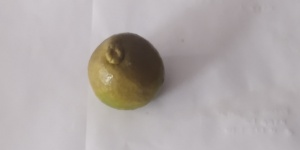BAD: (87, 32, 168, 111)
